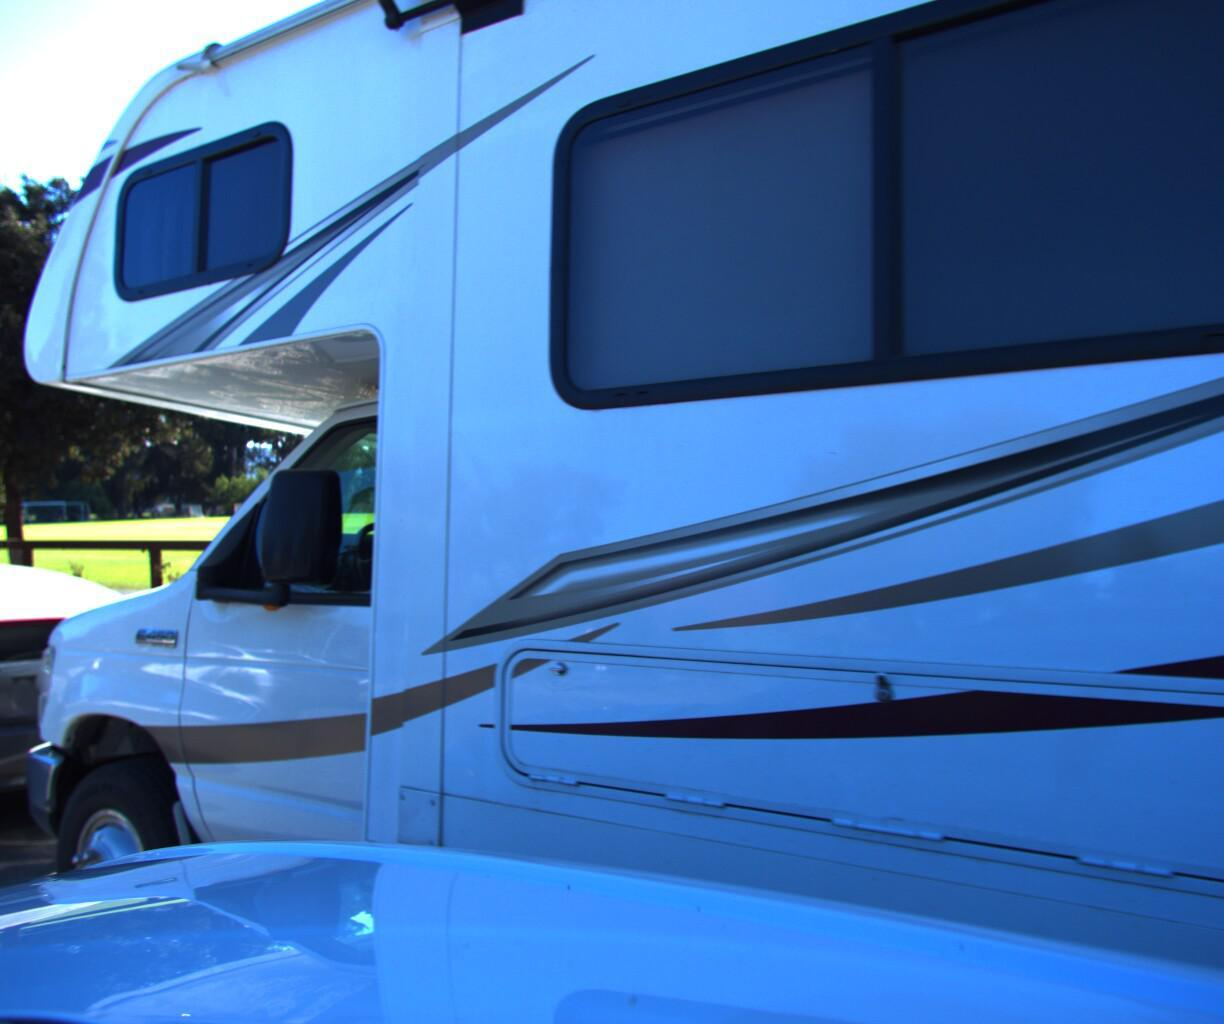car: (0, 532, 243, 883)
